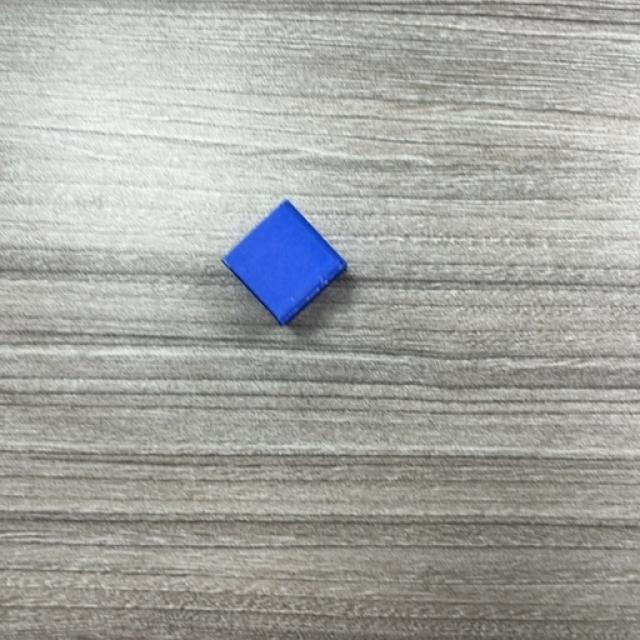Azul: (221, 201, 349, 326)
